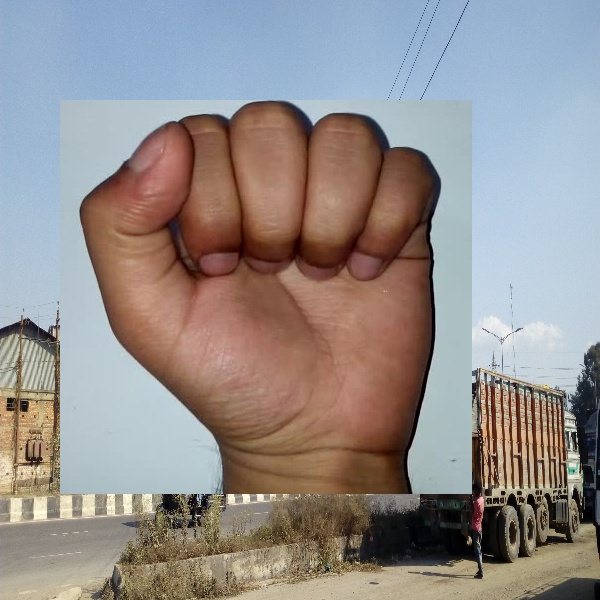A: (60, 100, 472, 494)
